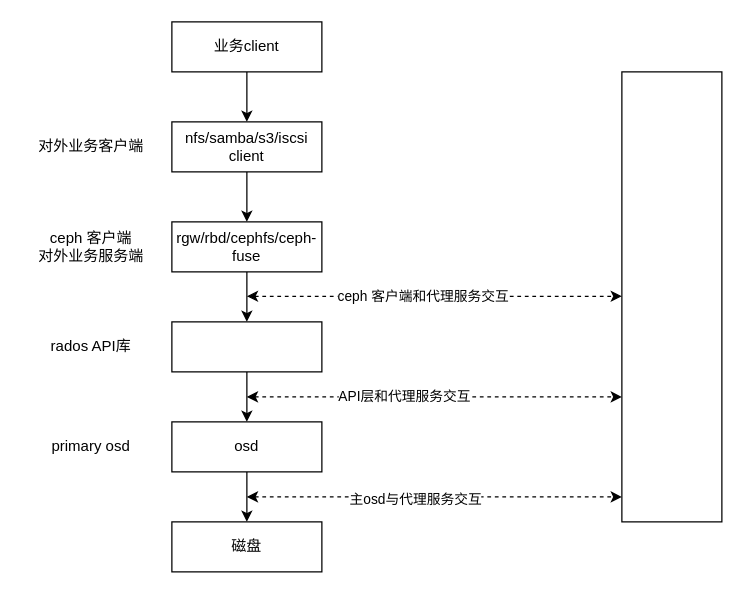
The diagram is 744 pixels wide and 594 high, and some of its shapes have lost their labels. Here are the shapes that lost their labels. From the top down, the centre of each, then its label:
At [671,296]: "代理服务 （根据对应的规则选择不同的纠删存储实例）".
At [246,346]: "librados/libceph.ko".
